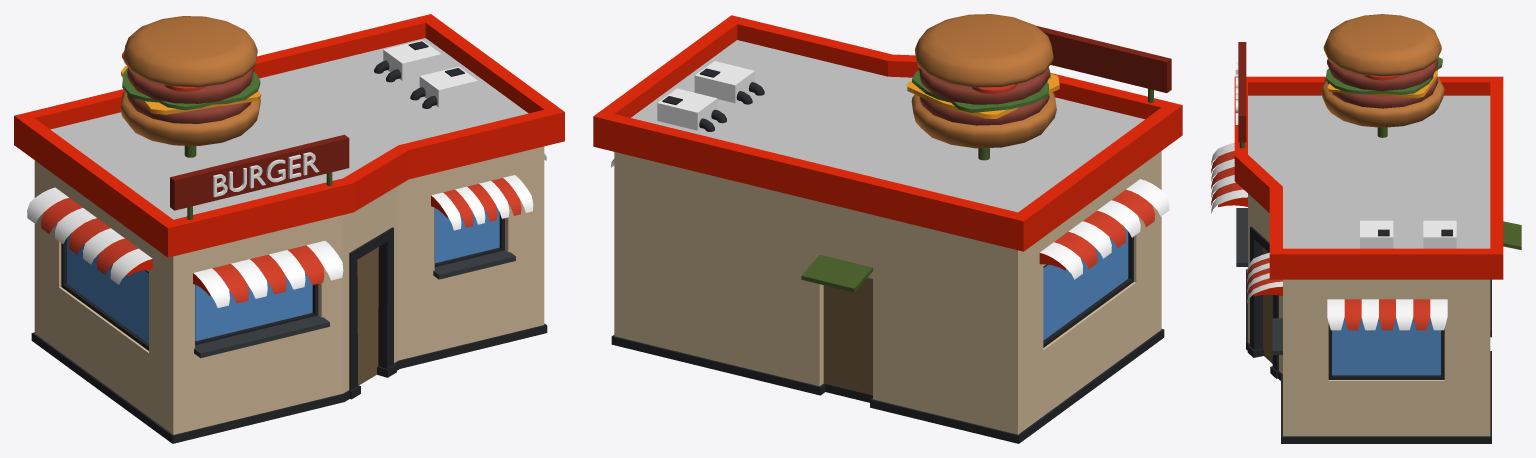
File: Burger Place_1.fbx
The picture shows the model from 3 angles, left to right: view 1: azimuth 30°, elevation 25°; view 2: azimuth 150°, elevation 25°; view 3: azimuth 270°, elevation 25°; orthographic projection. The views are drawn at different scales.
Visible parts, largest first — view 1: Burger Place_1; view 2: Burger Place_1; view 3: Burger Place_1.
Part boxes in pixels (x1,y1,x2,y2): Burger Place_1: [14, 14, 564, 443]; Burger Place_1: [593, 14, 1182, 443]; Burger Place_1: [1211, 14, 1521, 443].
Size of the model in its own units: 1095 by 754 by 746.
